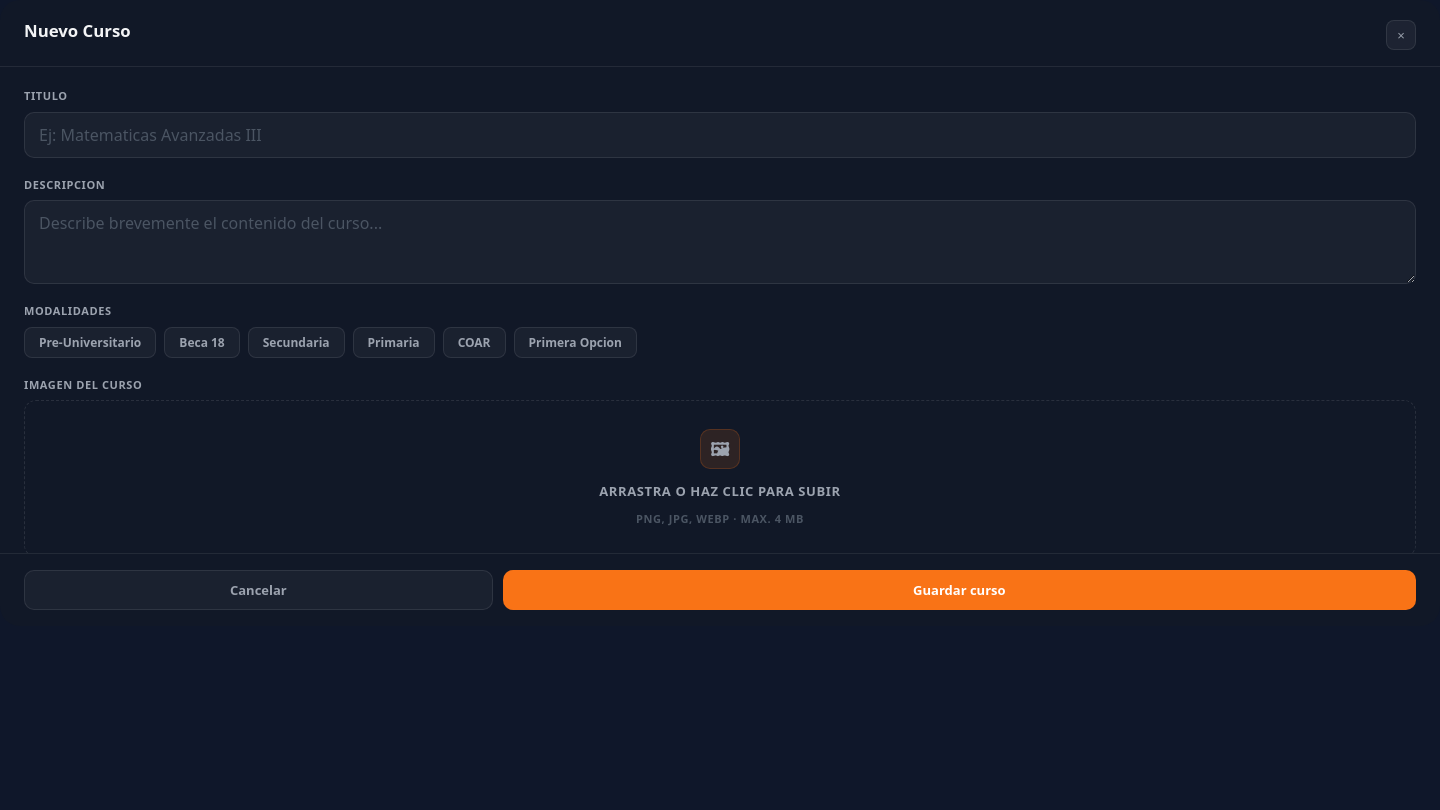
Test: CreateCourseForm › muestra errores de validación al enviar el formulario vacío
The image size is (1440, 810).
Click the button "Guardar curso" at (959, 590), box [503, 570, 1416, 610]
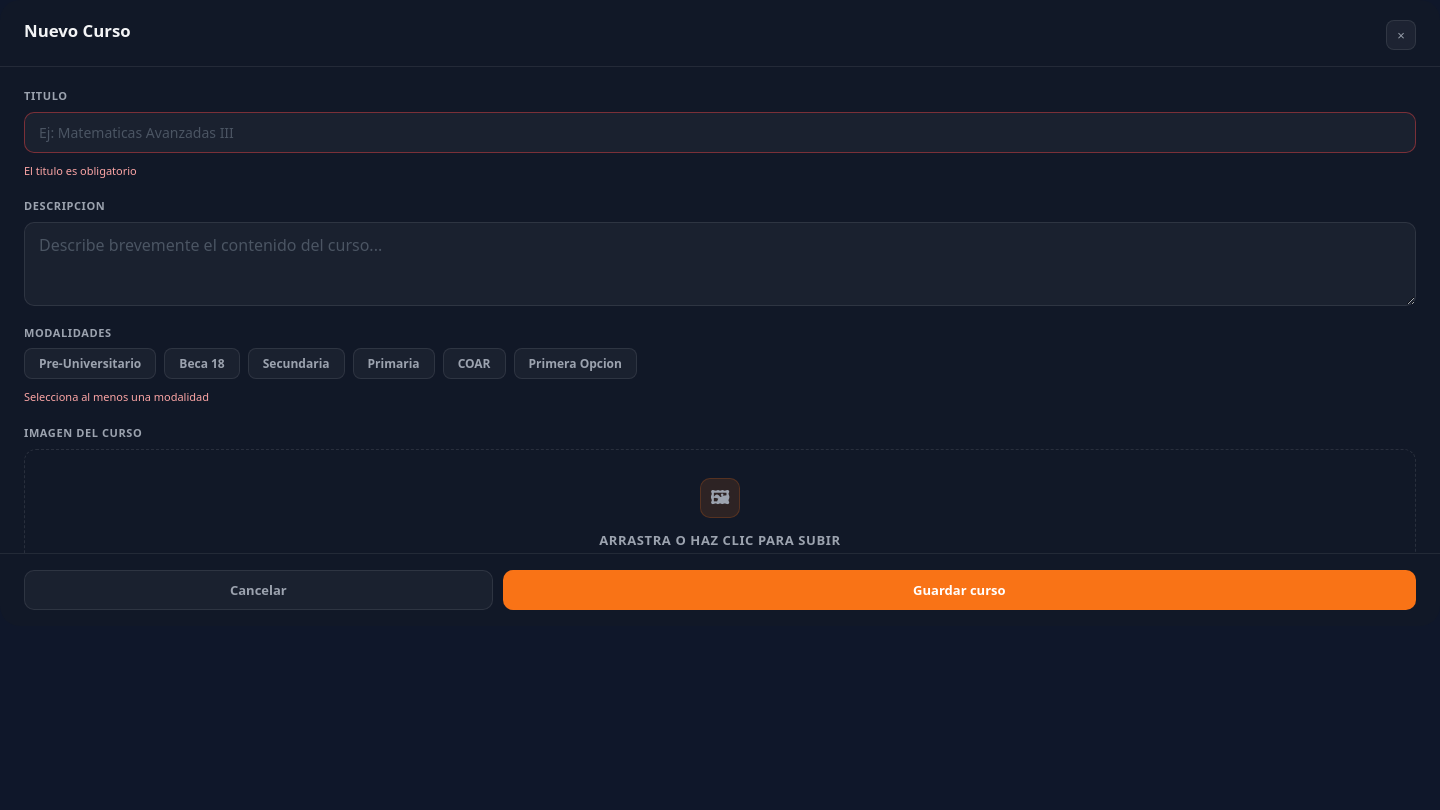
Now the text "El titulo es obligatorio" is shown, box [24, 163, 137, 178]
Now the text "Selecciona al menos una modalidad" is shown, box [24, 389, 209, 404]
